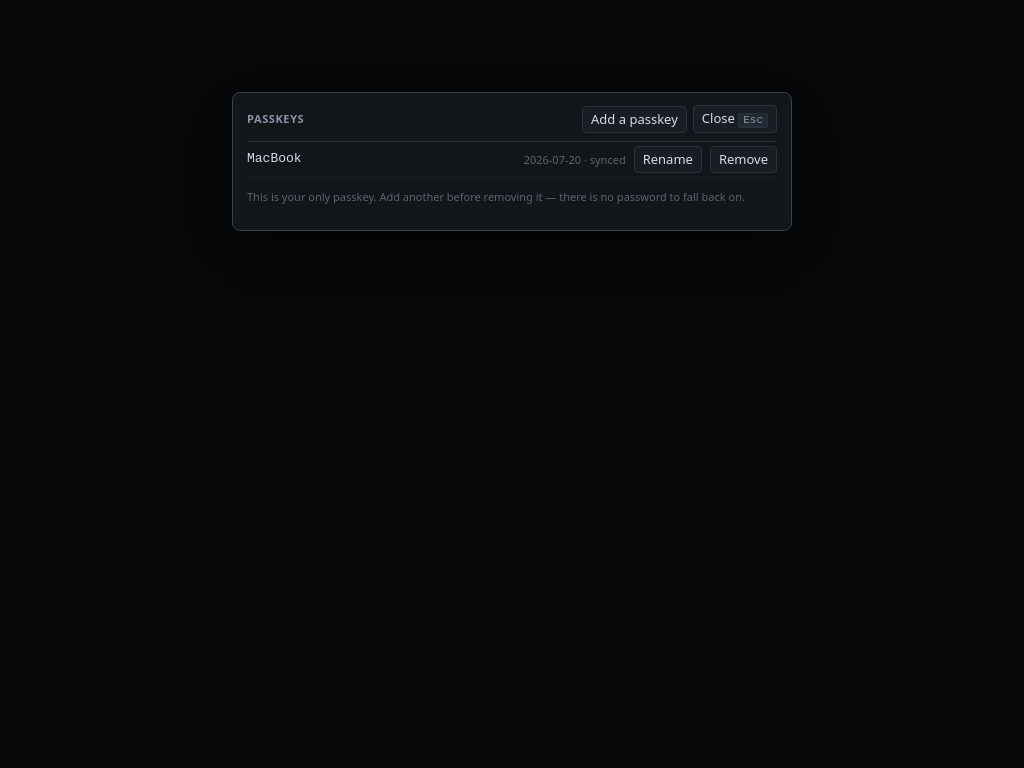
Scenario: PasskeyManager › adds another passkey, after which the first becomes removable
Expected: the button with test id "passkey-remove" is disabled, [710,146,777,173]
Click the button with test id "passkey-add" at x=634, y=119, box [582,106,687,132]
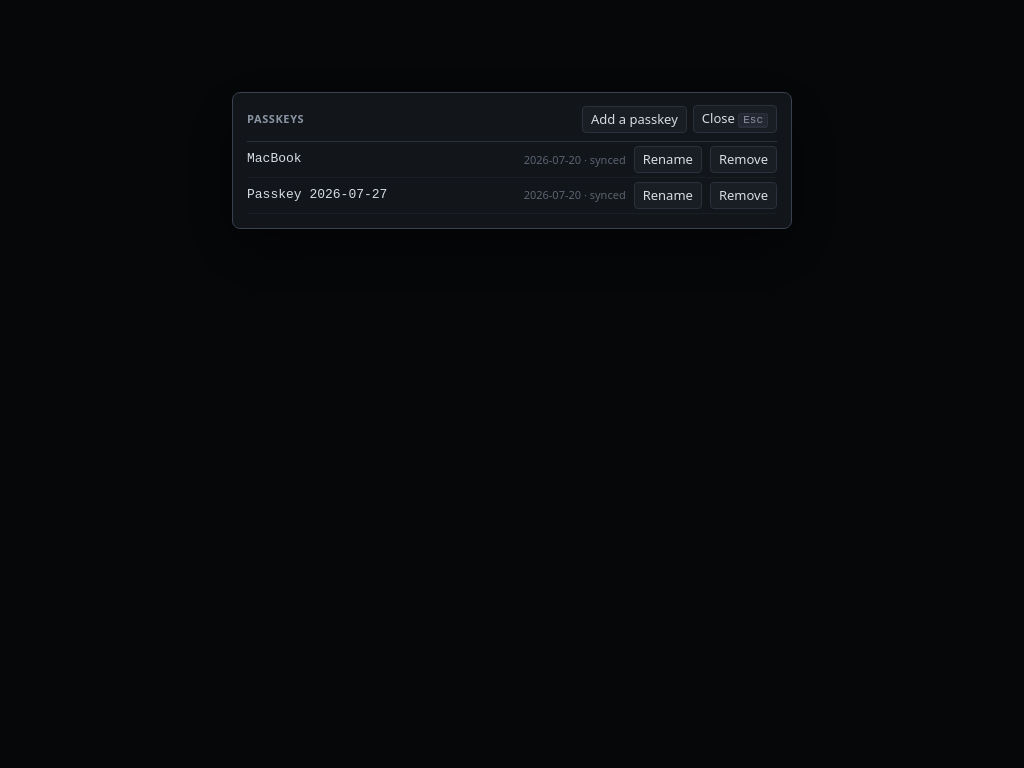
Expected: the button with test id "passkey-remove" in the row of "MacBook" is enabled, [710,146,777,173]
Result: the button with test id "passkey-remove" in the row of "Passkey 2026-07-27" is enabled at [710,182,777,209]
